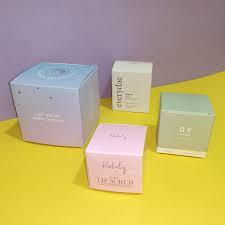cube: (10, 61, 99, 149), (86, 126, 149, 196), (156, 93, 215, 157)
